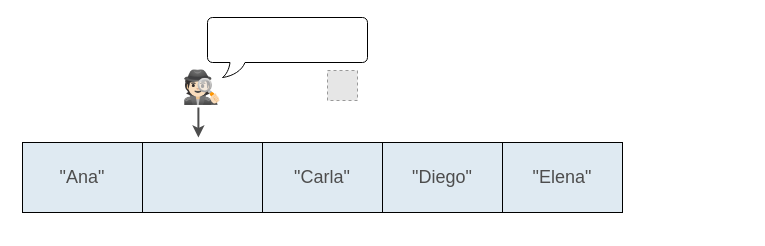
Some shapes in this 765 by 246 pixel diagram are drawn without their labels. Grey dashed boxes stand in for pictures. Each missing label, with the centre of its shape:
"Bruno": (202,177)
¿ "Francisco" ?: (287,47)
